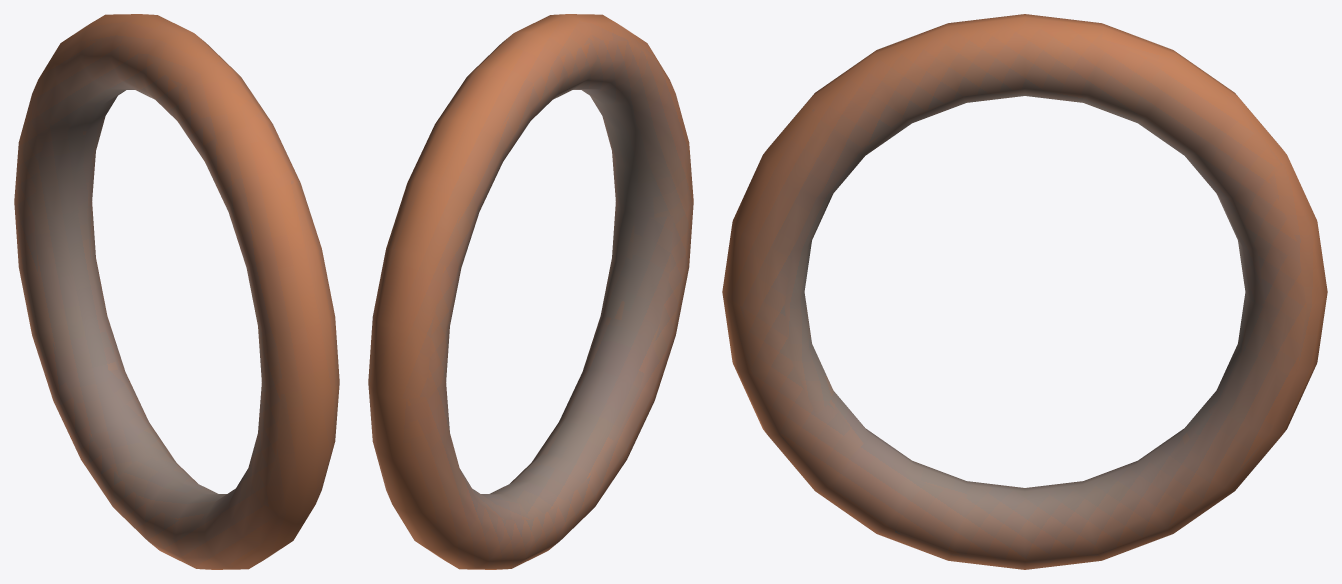
The picture shows the model from 3 angles, left to right: view 1: azimuth 30°, elevation 25°; view 2: azimuth 150°, elevation 25°; view 3: azimuth 270°, elevation 25°; orthographic projection. The views are drawn at different scales.
Visible parts, largest first — view 1: Torus.003; view 2: Torus.003; view 3: Torus.003.
Boxes of the visible parts, <box> form: Torus.003: <box>14,14,339,569</box>; Torus.003: <box>368,14,693,569</box>; Torus.003: <box>722,14,1327,569</box>.
Bounding box in the file's own units: 0.0851 × 0.6262 × 0.6262.
Materials: 1 (1 with a texture image).
